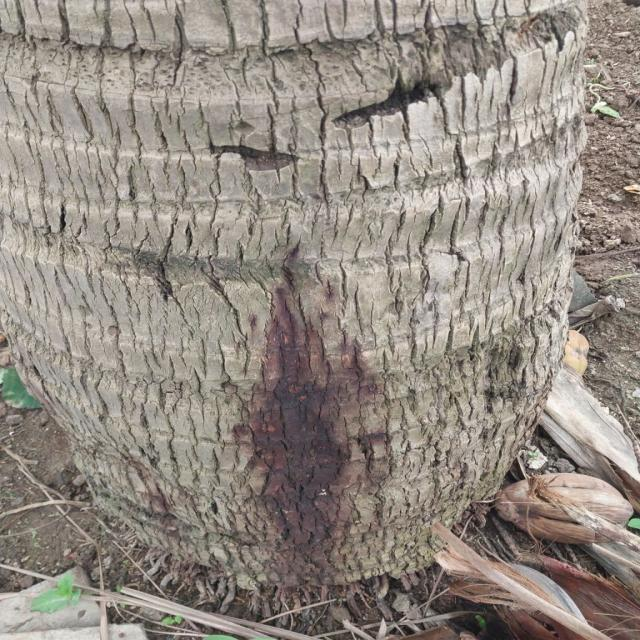stembleeding: (163, 242, 434, 576)
